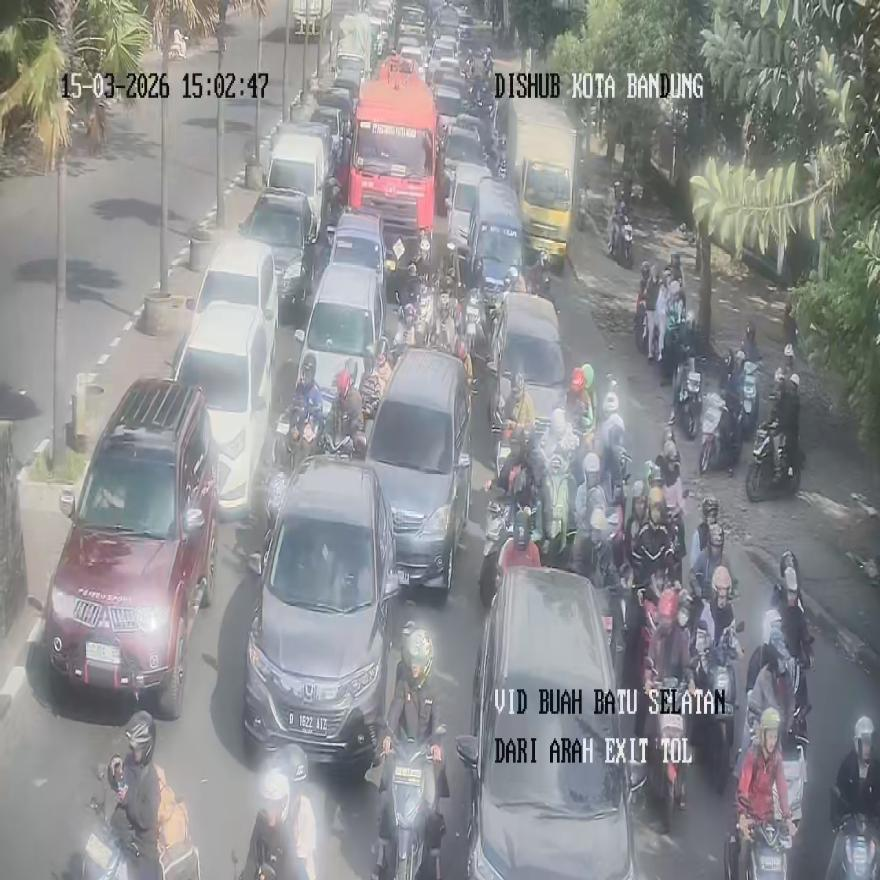Motor: (455, 564, 647, 878), (41, 376, 218, 716), (242, 457, 399, 777), (363, 347, 472, 595), (171, 300, 272, 520), (190, 237, 276, 378), (240, 187, 318, 324)
Truk: (376, 725, 448, 880), (83, 794, 200, 880), (697, 622, 743, 791), (746, 704, 806, 830), (646, 675, 689, 831), (724, 816, 794, 880), (745, 424, 797, 502), (479, 491, 510, 608), (825, 813, 879, 880), (697, 392, 735, 475), (726, 350, 758, 443), (673, 357, 703, 440), (608, 212, 633, 268), (462, 288, 481, 360), (619, 220, 633, 269), (168, 28, 186, 59)
